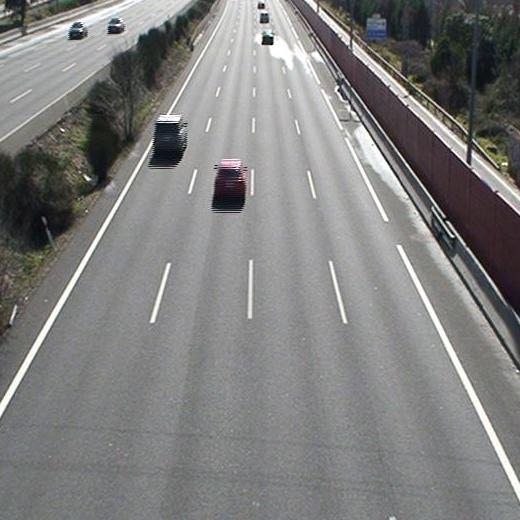car: (215, 159, 246, 200), (262, 30, 274, 45)
van: (153, 115, 188, 157)
